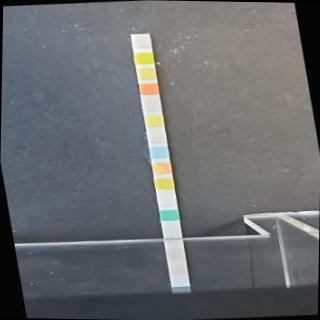mark: (134, 51, 154, 64), (142, 98, 160, 112), (152, 162, 172, 174), (144, 114, 164, 126), (136, 66, 156, 78), (159, 208, 178, 220), (147, 130, 166, 142), (138, 84, 158, 95), (150, 146, 168, 158), (157, 193, 176, 204), (155, 178, 174, 189), (132, 36, 151, 47)
